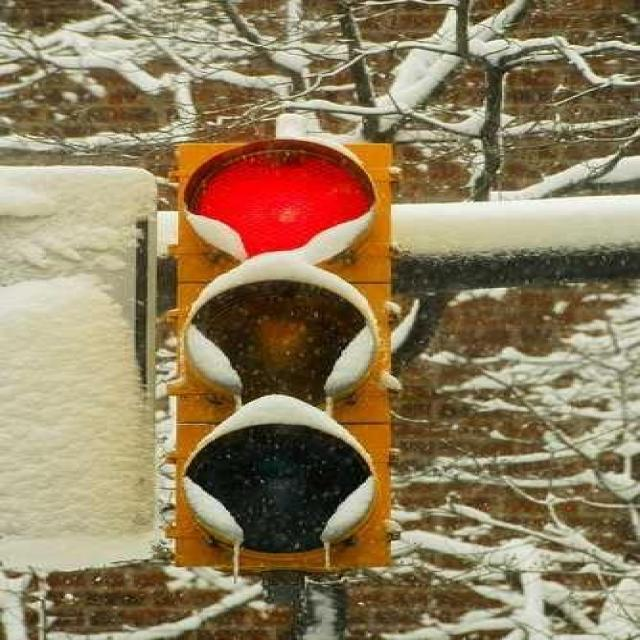Traffic Light -Red-: (172, 109, 380, 590)
